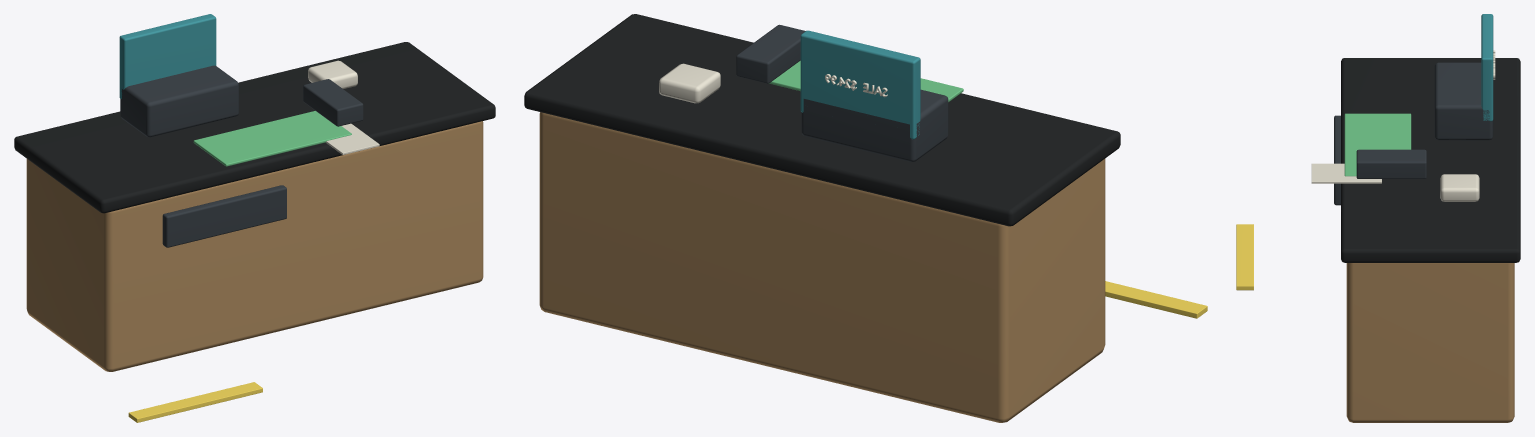
The model's file is checkout_counter_register.glb.
The picture shows the model from 3 angles, left to right: view 1: azimuth 30°, elevation 25°; view 2: azimuth 150°, elevation 25°; view 3: azimuth 270°, elevation 25°; orthographic projection. The views are drawn at different scales.
Visible parts, largest first — view 1: checkout_counter_laminate_base, checkout_counter_black_top, register_body, register_screen, cash_drawer_front, counter_trade_mat_placeholder, barcode_scanner_wedge, customer_queue_floor_marker, receipt_roll, counter_receipt_slip; view 2: checkout_counter_laminate_base, checkout_counter_black_top, register_screen, register_body, barcode_scanner_wedge, receipt_roll, customer_queue_floor_marker, counter_trade_mat_placeholder; view 3: checkout_counter_laminate_base, checkout_counter_black_top, register_body, counter_trade_mat_placeholder, barcode_scanner_wedge, register_screen, customer_queue_floor_marker, receipt_roll, counter_receipt_slip, cash_drawer_front.
Part boxes in pixels (x1=…): checkout_counter_laminate_base: x1=26, y1=121, x2=483, y2=371; checkout_counter_black_top: x1=14, y1=42, x2=495, y2=213; register_body: x1=120, y1=65, x2=238, y2=137; register_screen: x1=119, y1=14, x2=216, y2=98; cash_drawer_front: x1=162, y1=185, x2=286, y2=247; counter_trade_mat_placeholder: x1=193, y1=111, x2=351, y2=166; barcode_scanner_wedge: x1=303, y1=79, x2=363, y2=126; customer_queue_floor_marker: x1=128, y1=382, x2=262, y2=422; receipt_roll: x1=308, y1=60, x2=357, y2=88; counter_receipt_slip: x1=326, y1=123, x2=379, y2=154; checkout_counter_laminate_base: x1=539, y1=112, x2=1105, y2=422; checkout_counter_black_top: x1=524, y1=14, x2=1120, y2=226; register_screen: x1=800, y1=30, x2=920, y2=139; register_body: x1=801, y1=89, x2=948, y2=161; barcode_scanner_wedge: x1=736, y1=24, x2=805, y2=83; receipt_roll: x1=659, y1=63, x2=720, y2=103; customer_queue_floor_marker: x1=1105, y1=281, x2=1207, y2=318; counter_trade_mat_placeholder: x1=769, y1=60, x2=963, y2=102; checkout_counter_laminate_base: x1=1346, y1=263, x2=1514, y2=422; checkout_counter_black_top: x1=1341, y1=58, x2=1520, y2=262; register_body: x1=1434, y1=62, x2=1493, y2=140; counter_trade_mat_placeholder: x1=1344, y1=113, x2=1411, y2=176; barcode_scanner_wedge: x1=1356, y1=149, x2=1426, y2=178; register_screen: x1=1481, y1=14, x2=1493, y2=121; customer_queue_floor_marker: x1=1236, y1=224, x2=1253, y2=290; receipt_roll: x1=1440, y1=174, x2=1479, y2=201; counter_receipt_slip: x1=1311, y1=163, x2=1381, y2=183; cash_drawer_front: x1=1334, y1=115, x2=1340, y2=205.
Size of the model in its own units: 2.45 by 1.52 by 1.46.
